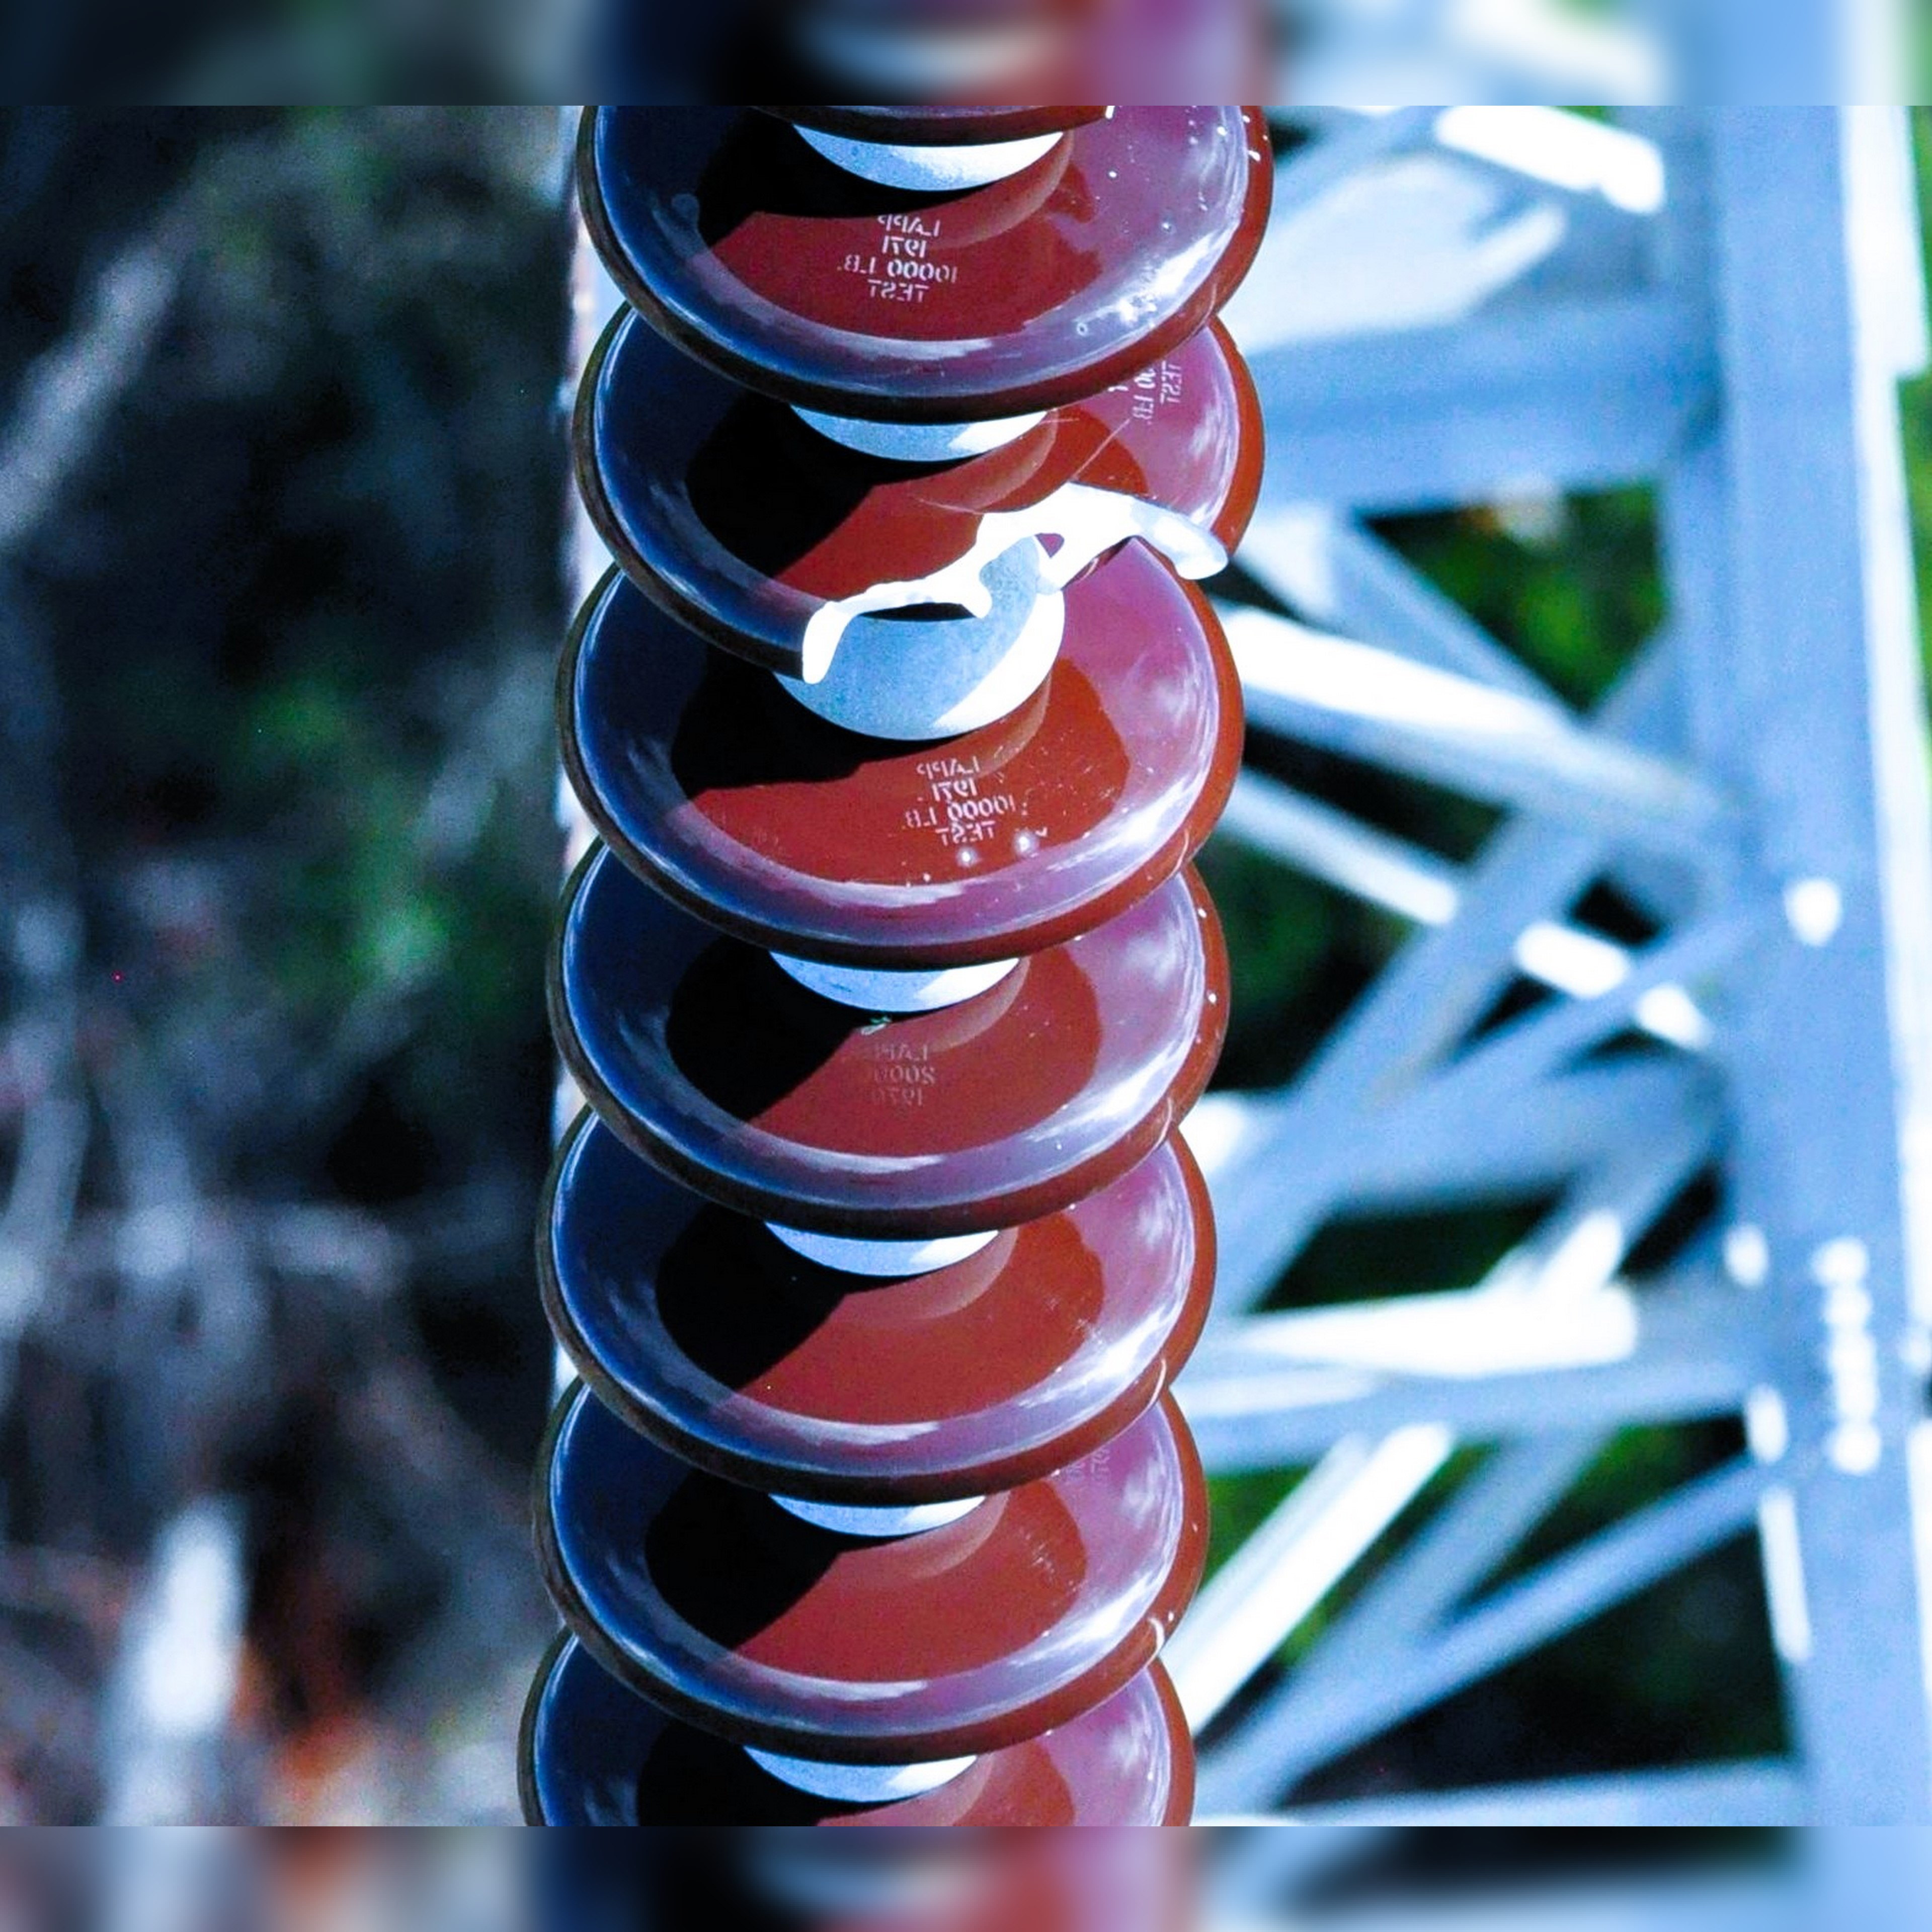insulator breakage: (566, 271, 1283, 694)
